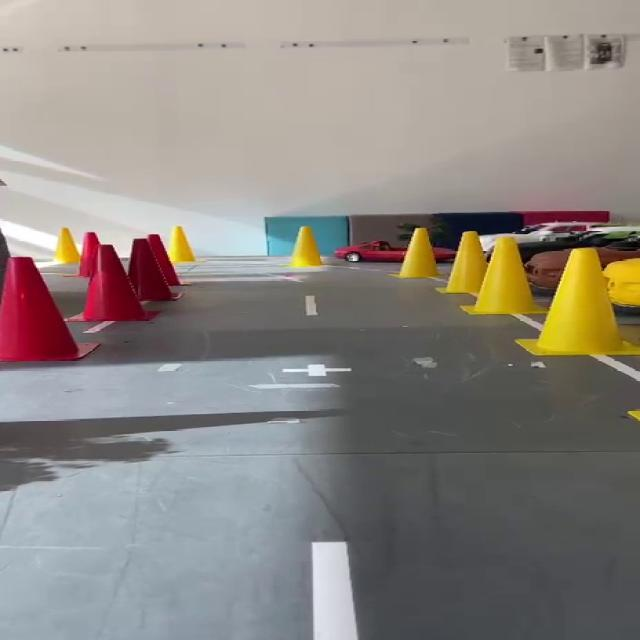Cone-red: (0, 257, 97, 362), (79, 244, 153, 321), (128, 238, 177, 300), (149, 234, 181, 286), (79, 232, 99, 278)
Cones-yellow: (516, 249, 639, 355), (462, 237, 542, 314), (440, 232, 486, 294), (400, 228, 434, 277), (52, 228, 83, 276), (288, 227, 323, 268), (166, 227, 197, 267), (629, 409, 639, 421)
